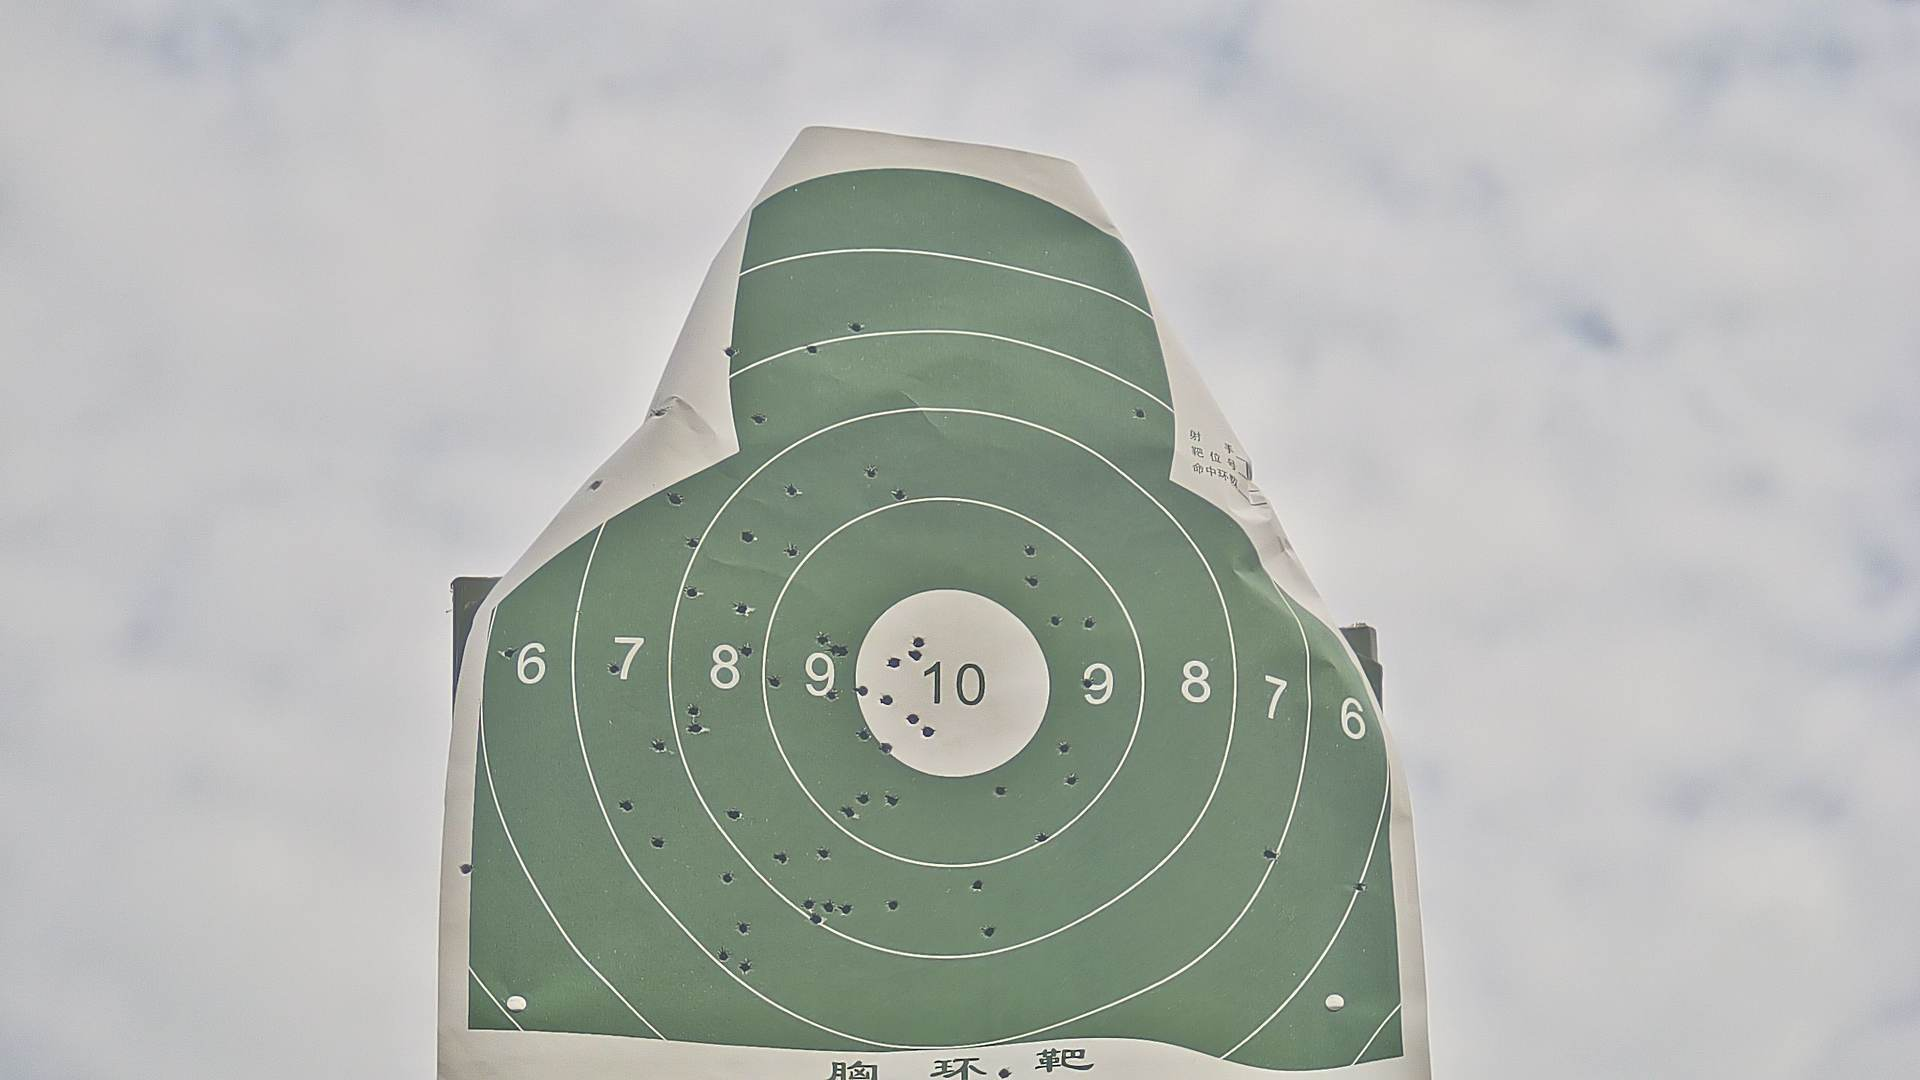hole: (684, 703, 702, 717), (456, 862, 476, 874), (785, 483, 798, 498), (684, 585, 700, 599), (720, 872, 733, 887), (840, 804, 855, 818), (1025, 543, 1038, 558), (740, 644, 752, 659), (737, 920, 749, 936), (740, 960, 752, 976), (588, 479, 604, 491), (688, 721, 702, 735), (884, 794, 897, 807), (887, 655, 901, 669), (651, 836, 663, 851), (818, 847, 832, 858), (856, 791, 868, 806), (920, 724, 935, 736), (984, 924, 996, 939), (865, 465, 877, 479), (669, 493, 680, 506), (786, 545, 798, 558), (775, 851, 789, 862), (880, 741, 891, 754), (909, 647, 920, 661), (996, 785, 1007, 798), (1048, 615, 1060, 628), (1265, 847, 1278, 858), (811, 911, 822, 926), (886, 898, 897, 913), (855, 728, 869, 738), (893, 489, 905, 501), (620, 800, 632, 812), (818, 633, 829, 645), (880, 694, 891, 705), (971, 880, 982, 891), (1065, 774, 1077, 786), (729, 808, 740, 822), (767, 676, 781, 687), (836, 645, 849, 655), (825, 688, 836, 702), (802, 897, 815, 907), (905, 712, 918, 723), (1059, 741, 1069, 754), (717, 947, 727, 961), (752, 413, 764, 423), (1134, 407, 1146, 418), (687, 537, 698, 549), (742, 530, 753, 542), (737, 603, 748, 615), (840, 903, 851, 915), (1081, 676, 1092, 688), (1085, 617, 1096, 629), (1026, 575, 1036, 587), (504, 647, 516, 658), (858, 684, 868, 698), (654, 741, 665, 752), (807, 344, 819, 353), (913, 636, 924, 645), (997, 1068, 1009, 1077), (1035, 833, 1047, 843), (727, 345, 736, 356), (609, 663, 618, 674), (1356, 884, 1366, 893), (829, 642, 837, 654), (825, 899, 833, 911), (851, 323, 862, 330)
target: (464, 166, 1404, 1076)
ten: (853, 589, 1054, 781)
